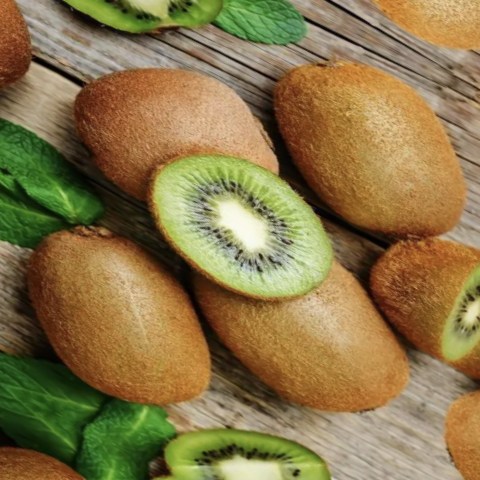kiwi: (152, 187, 464, 457), (41, 11, 339, 274), (218, 17, 480, 285), (0, 192, 262, 454)
